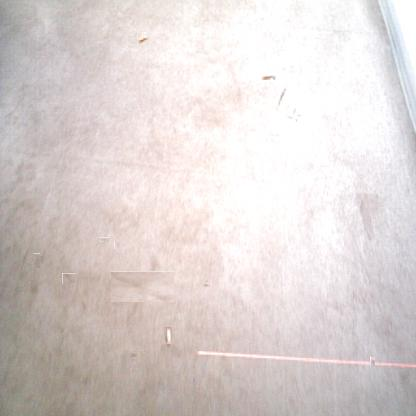dirty: (164, 327, 172, 346), (261, 74, 276, 82), (137, 34, 148, 44)
mark: (119, 263, 166, 311), (356, 192, 384, 240), (278, 86, 288, 106), (289, 110, 301, 122), (62, 272, 74, 284), (28, 280, 38, 294), (31, 255, 42, 266), (114, 239, 121, 249), (204, 280, 212, 288), (101, 236, 108, 244), (370, 356, 375, 366), (130, 352, 136, 360), (82, 300, 86, 312)
